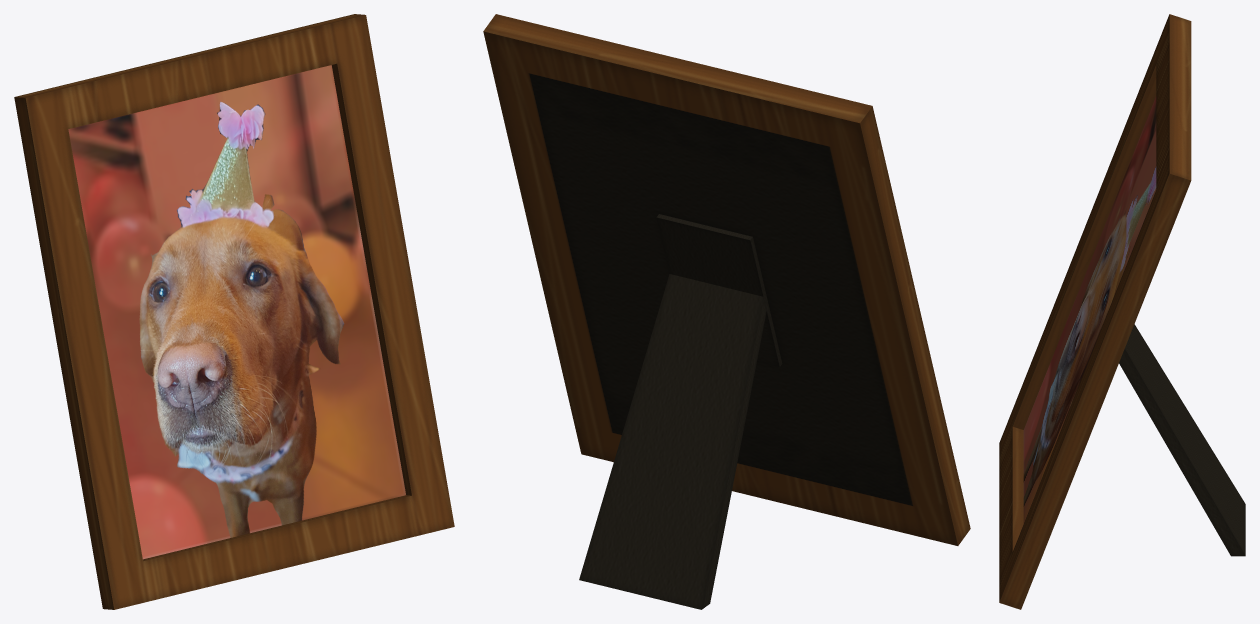
File: Bingkai_Foto.fbx
The picture shows the model from 3 angles, left to right: view 1: azimuth 30°, elevation 25°; view 2: azimuth 150°, elevation 25°; view 3: azimuth 270°, elevation 25°; orthographic projection. The views are drawn at different scales.
Parts seen in each view (by area): view 1: PhotoFrame; view 2: PhotoFrame; view 3: PhotoFrame.
Part boxes in pixels (<box>): PhotoFrame: <box>14,14,454,609</box>; PhotoFrame: <box>483,14,970,609</box>; PhotoFrame: <box>999,14,1245,609</box>.
Size of the model in its own units: 498 by 635 by 325.
Materials: 1 (1 with a texture image).
